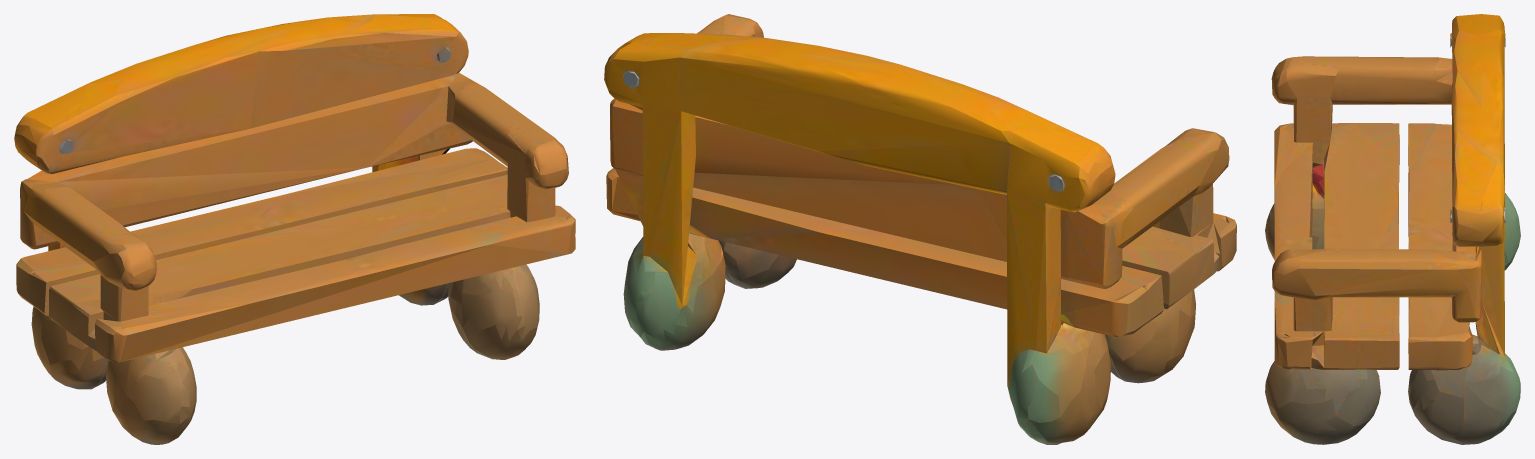
The model's file is bench.b354500c.glb.
The picture shows the model from 3 angles, left to right: view 1: azimuth 30°, elevation 25°; view 2: azimuth 150°, elevation 25°; view 3: azimuth 270°, elevation 25°; orthographic projection. The views are drawn at different scales.
Parts seen in each view (by area): view 1: output_unwrapped; view 2: output_unwrapped; view 3: output_unwrapped.
Part boxes in pixels (bbox=[...]): output_unwrapped: bbox=[14, 14, 575, 444]; output_unwrapped: bbox=[604, 14, 1236, 444]; output_unwrapped: bbox=[1265, 14, 1520, 444].
Bounding box in the file's own units: 1.9 × 1.15 × 0.9471.
Materials: 1 (1 with a texture image).
